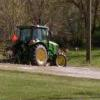Tractor: (12, 16, 77, 83)
